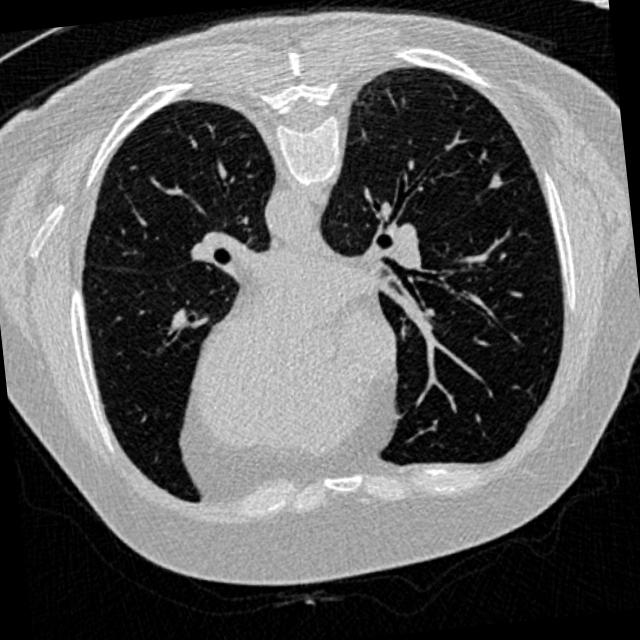nodule: (480, 166, 511, 198)
